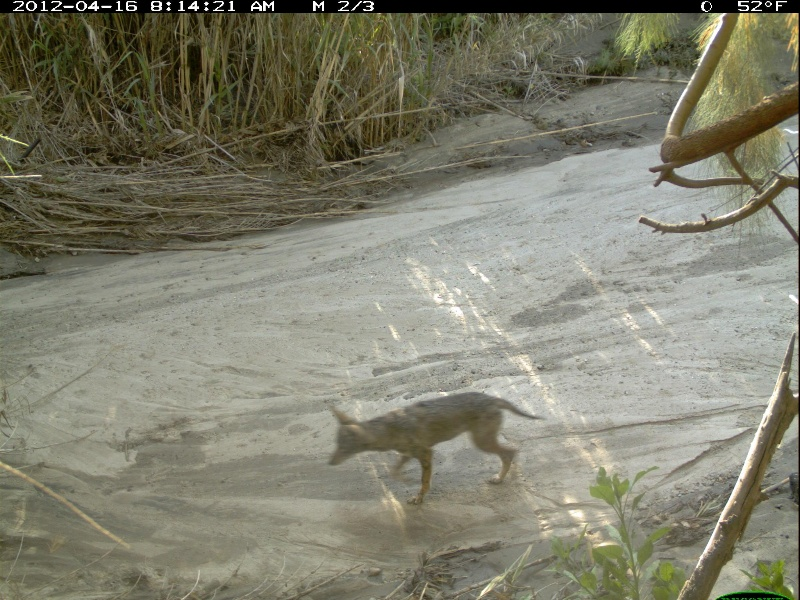coyote: (319, 387, 545, 505)
